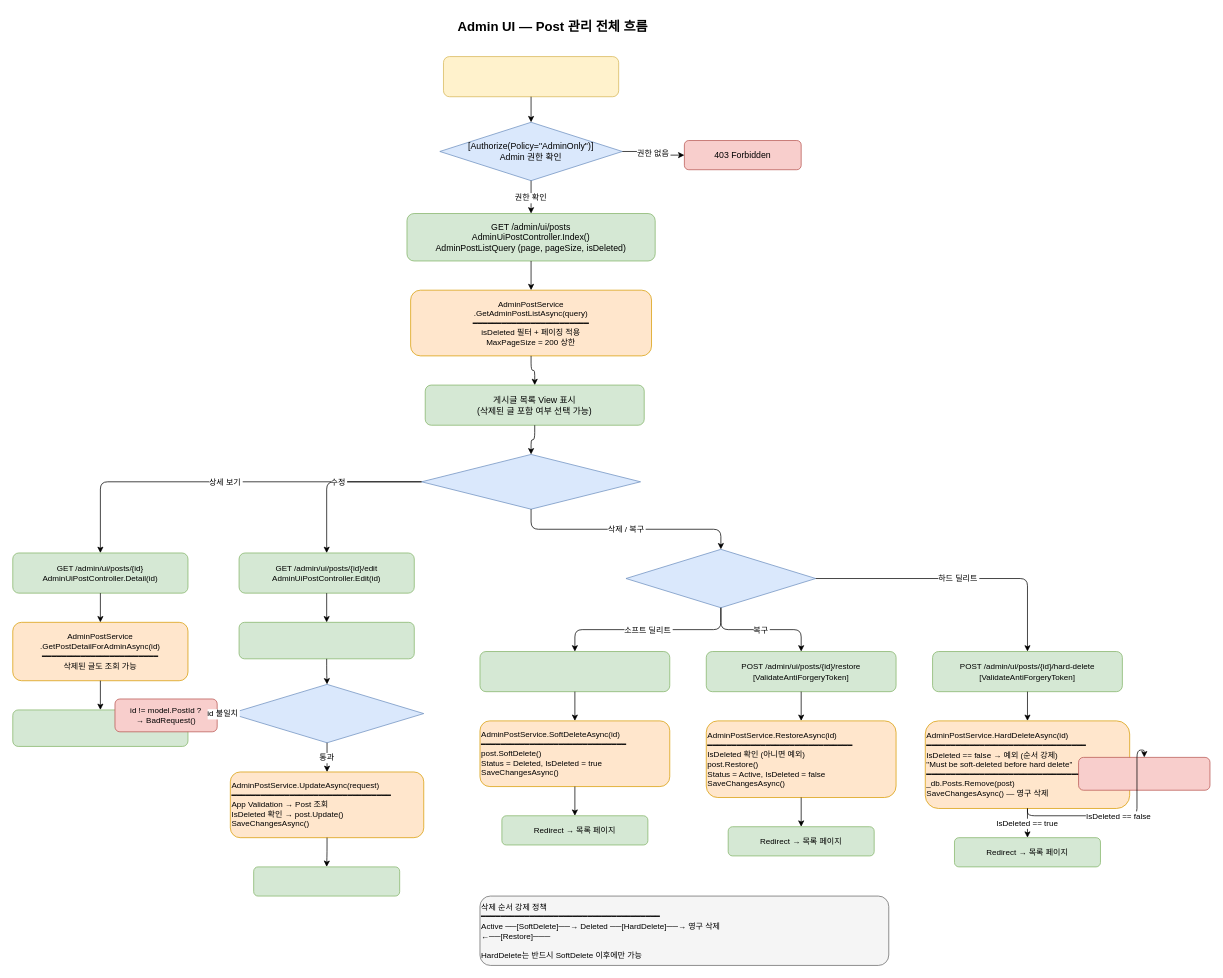
Some shapes in this 1223 by 978 pixel diagram are drawn without their labels. The box of each missing label's shape, as (x1, y1, x2, y2) in pixels:
Admin /admin/ui/posts 접근: (443, 56, 619, 97)
Admin이 목록에서 항목 선택: (421, 454, 641, 509)
InvalidPostStateException → 400 Bad Request: (1078, 757, 1210, 790)
POST /admin/ui/posts/{id}/edit [ValidateAntiForgeryToken] ModelState.IsValid 검사: (230, 684, 424, 743)
POST /admin/ui/posts/{id}/soft-delete [ValidateAntiForgeryToken]: (479, 651, 670, 692)
Redirect → 상세 페이지: (253, 866, 400, 896)
삭제 관련 작업 선택: (625, 549, 816, 608)
상세 View 표시 (DeletedAt 포함): (12, 709, 188, 746)
수정 폼 View 표시 (기존 Title / Content 채워진 상태): (238, 622, 414, 659)
